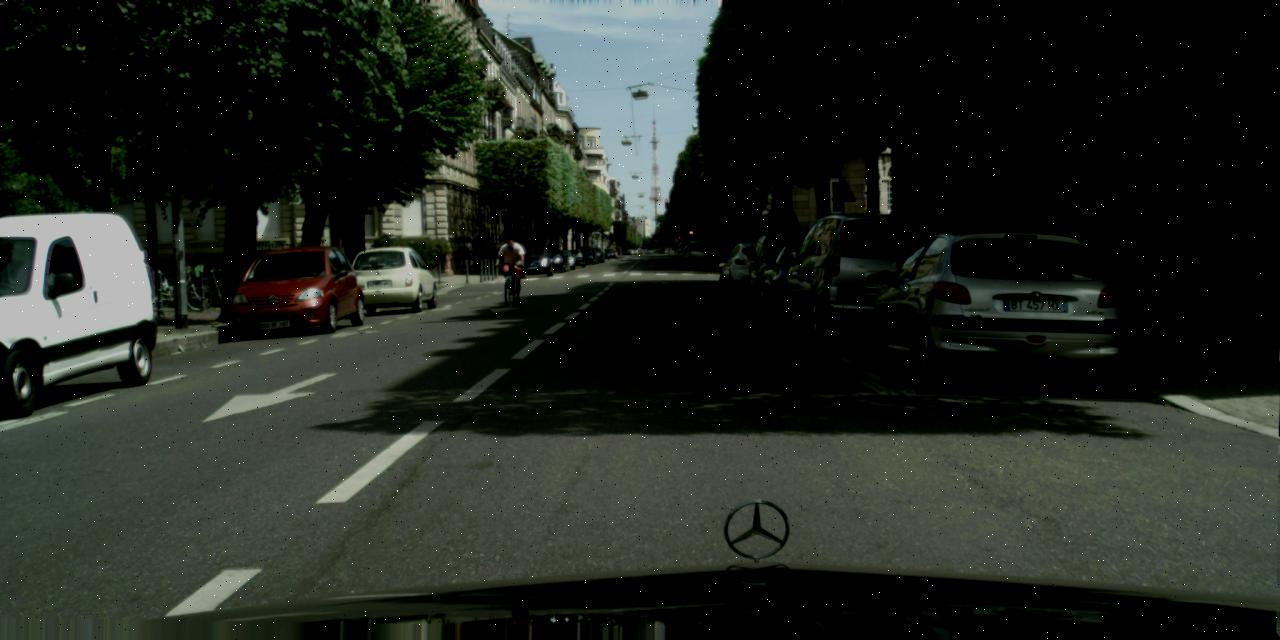ped: (499, 238, 523, 298)
